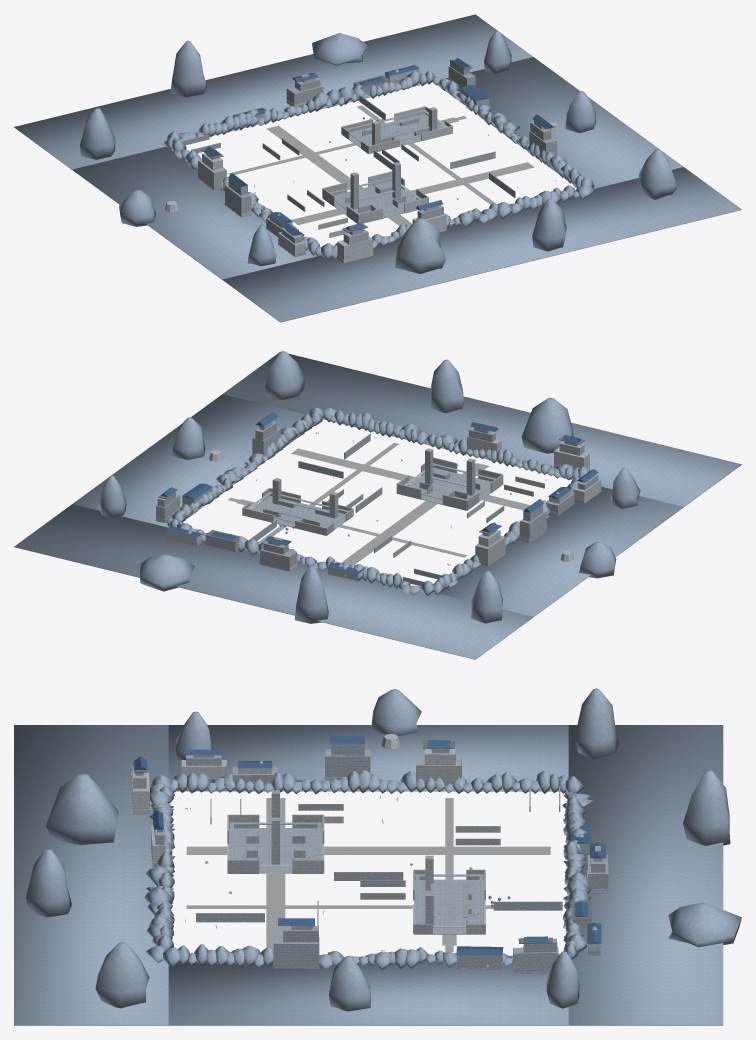
Rendered from setsugen-lod2.glb.
3 views of the same model, one above another, from view 1: azimuth 30°, elevation 25°; view 2: azimuth 150°, elevation 25°; view 3: azimuth 270°, elevation 25° (orthographic). The views are drawn at different scales.
Visible parts, largest first — view 1: HB_setsugen_LOD2_terrain, HB_setsugen_LOD2_road, HB_setsugen_LOD2_wall_cool, HB_setsugen_LOD2_wall, HB_setsugen_LOD2_wall_alt, HB_setsugen_LOD2_roof, HB_setsugen_LOD2_LANDMARK_0_wall_cool, HB_setsugen_LOD2_LANDMARK_1_wall_cool, HB_setsugen_LOD2_wall_warm, HB_setsugen_LOD2_LANDMARK_0_wall_warm, HB_setsugen_LOD2_LANDMARK_1_wall_warm, HB_setsugen_LOD2_LANDMARK_0_wall_alt (+3 smaller); view 2: HB_setsugen_LOD2_terrain, HB_setsugen_LOD2_road, HB_setsugen_LOD2_wall_cool, HB_setsugen_LOD2_wall_alt, HB_setsugen_LOD2_wall, HB_setsugen_LOD2_roof, HB_setsugen_LOD2_LANDMARK_0_wall_cool, HB_setsugen_LOD2_wall_warm, HB_setsugen_LOD2_LANDMARK_1_wall_cool, HB_setsugen_LOD2_LANDMARK_0_wall_warm, HB_setsugen_LOD2_LANDMARK_1_wall_warm, HB_setsugen_LOD2_LANDMARK_0_wall_alt (+3 smaller); view 3: HB_setsugen_LOD2_terrain, HB_setsugen_LOD2_wall_cool, HB_setsugen_LOD2_road, HB_setsugen_LOD2_wall_alt, HB_setsugen_LOD2_LANDMARK_0_wall_cool, HB_setsugen_LOD2_roof, HB_setsugen_LOD2_LANDMARK_1_wall_cool, HB_setsugen_LOD2_wall, HB_setsugen_LOD2_wall_warm, HB_setsugen_LOD2_LANDMARK_0_wall_alt, HB_setsugen_LOD2_LANDMARK_0_wall_warm, HB_setsugen_LOD2_LANDMARK_1_wall_alt (+2 smaller).
Boxes of the visible parts, bbox=[...] form: HB_setsugen_LOD2_terrain: bbox=[14, 14, 741, 322]; HB_setsugen_LOD2_road: bbox=[228, 105, 534, 225]; HB_setsugen_LOD2_wall_cool: bbox=[191, 66, 557, 256]; HB_setsugen_LOD2_wall: bbox=[165, 69, 559, 262]; HB_setsugen_LOD2_wall_alt: bbox=[182, 58, 551, 263]; HB_setsugen_LOD2_roof: bbox=[203, 58, 554, 235]; HB_setsugen_LOD2_LANDMARK_0_wall_cool: bbox=[334, 162, 417, 218]; HB_setsugen_LOD2_LANDMARK_1_wall_cool: bbox=[346, 114, 444, 147]; HB_setsugen_LOD2_wall_warm: bbox=[198, 78, 544, 244]; HB_setsugen_LOD2_LANDMARK_0_wall_warm: bbox=[323, 177, 404, 223]; HB_setsugen_LOD2_LANDMARK_1_wall_warm: bbox=[342, 106, 428, 153]; HB_setsugen_LOD2_LANDMARK_0_wall_alt: bbox=[322, 172, 428, 209]; HB_setsugen_LOD2_terrain: bbox=[14, 351, 741, 659]; HB_setsugen_LOD2_road: bbox=[228, 442, 530, 564]; HB_setsugen_LOD2_wall_cool: bbox=[156, 427, 598, 579]; HB_setsugen_LOD2_wall_alt: bbox=[155, 421, 601, 586]; HB_setsugen_LOD2_wall: bbox=[167, 436, 601, 570]; HB_setsugen_LOD2_roof: bbox=[161, 412, 598, 573]; HB_setsugen_LOD2_LANDMARK_0_wall_cool: bbox=[408, 448, 495, 504]; HB_setsugen_LOD2_wall_warm: bbox=[156, 421, 594, 580]; HB_setsugen_LOD2_LANDMARK_1_wall_cool: bbox=[251, 491, 348, 529]; HB_setsugen_LOD2_LANDMARK_0_wall_warm: bbox=[396, 468, 503, 510]; HB_setsugen_LOD2_LANDMARK_1_wall_warm: bbox=[242, 492, 353, 535]; HB_setsugen_LOD2_LANDMARK_0_wall_alt: bbox=[421, 458, 479, 510]; HB_setsugen_LOD2_terrain: bbox=[14, 688, 741, 1025]; HB_setsugen_LOD2_wall_cool: bbox=[152, 743, 562, 973]; HB_setsugen_LOD2_road: bbox=[186, 798, 550, 951]; HB_setsugen_LOD2_wall_alt: bbox=[131, 766, 608, 973]; HB_setsugen_LOD2_LANDMARK_0_wall_cool: bbox=[228, 817, 323, 873]; HB_setsugen_LOD2_roof: bbox=[133, 735, 606, 955]; HB_setsugen_LOD2_LANDMARK_1_wall_cool: bbox=[414, 874, 485, 934]; HB_setsugen_LOD2_wall: bbox=[131, 734, 607, 968]; HB_setsugen_LOD2_wall_warm: bbox=[132, 749, 602, 972]; HB_setsugen_LOD2_LANDMARK_0_wall_alt: bbox=[228, 790, 322, 873]; HB_setsugen_LOD2_LANDMARK_0_wall_warm: bbox=[227, 814, 324, 873]; HB_setsugen_LOD2_LANDMARK_1_wall_alt: bbox=[414, 869, 484, 934].
Size of the model in its own units: 618 by 61.91 by 612.
10 materials, 9 textured.
